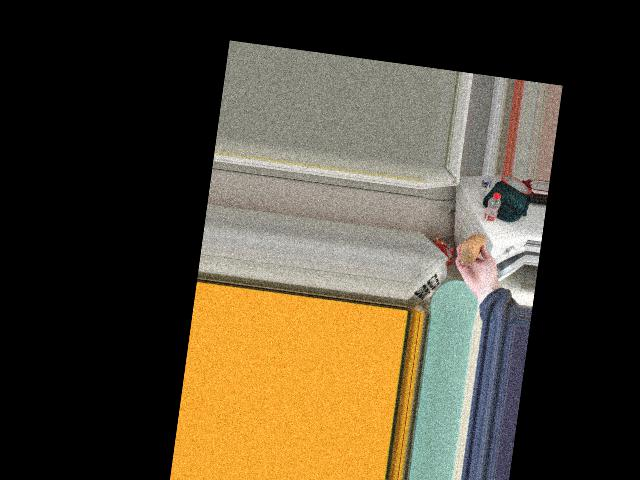sweet_potato: (459, 231, 485, 263)
